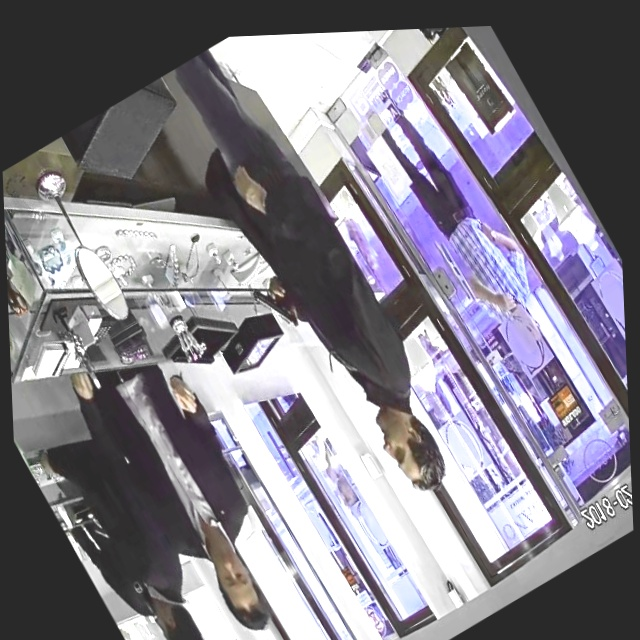gun: (234, 253, 321, 360)
